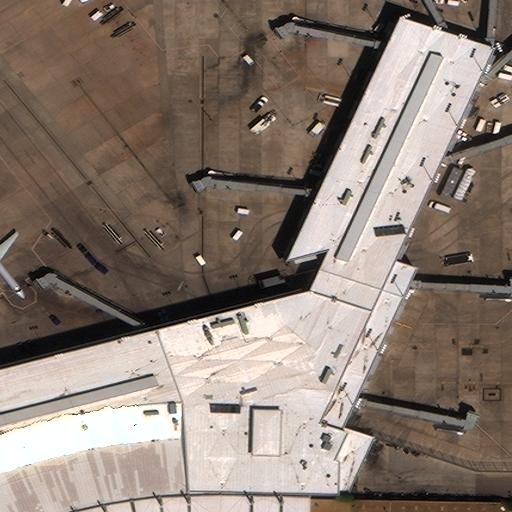Medium Civil Transport: (0, 229, 23, 297)
